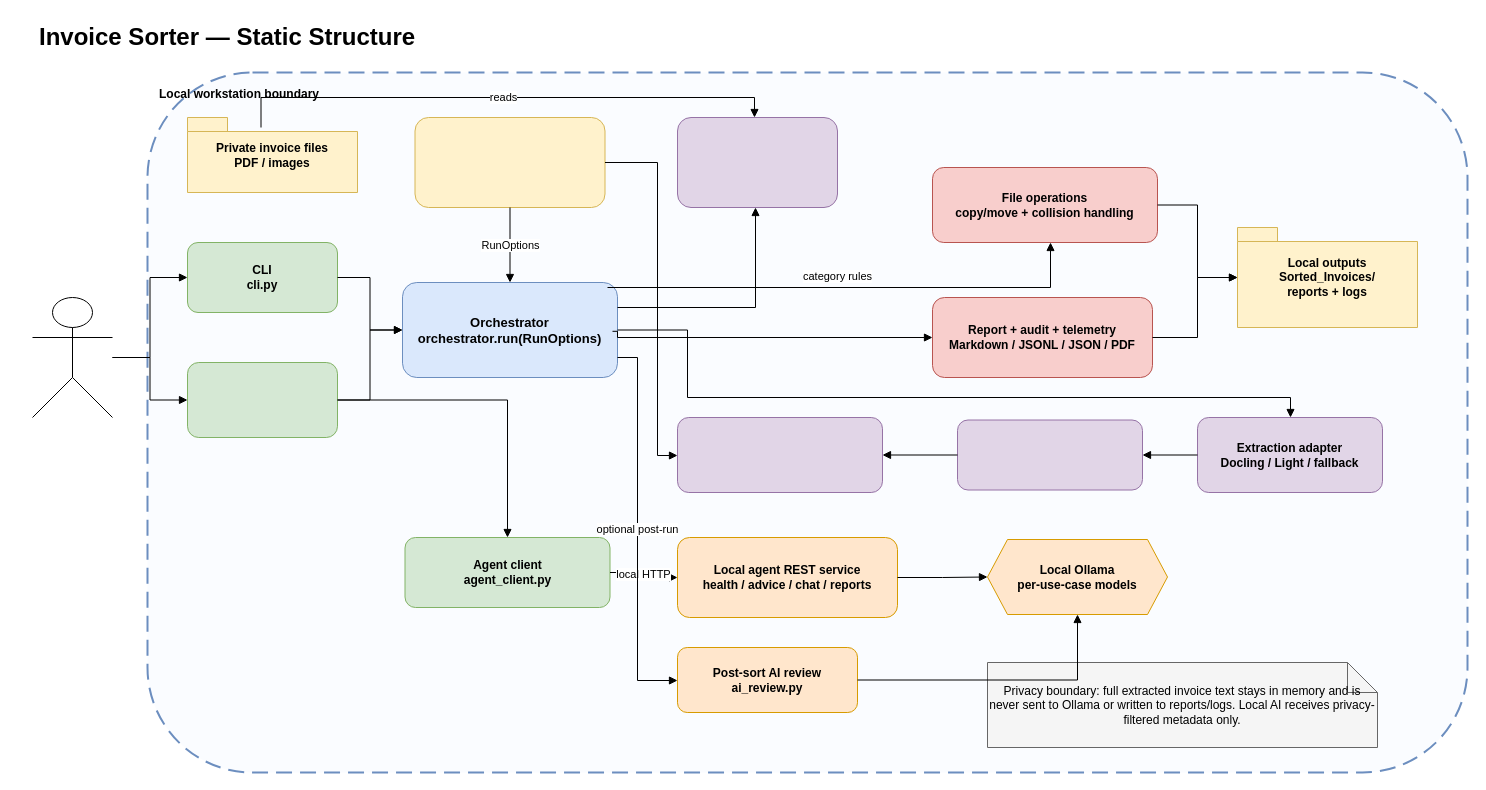
Some shapes in this 1486 by 790 pixel diagram are drawn without their labels. The centre of each missing label's shape, as x and y in pixels:
Classifier + routing rules, confidence, manual review: [779,454]
Configuration categories.yaml AI prompt + env overrides: [509,162]
Desktop GUI gui.py / Worker: [262,400]
Metadata extraction DE/EN fields: [1049,454]
Scanner scanner.py: [757,162]
User / Tax preparer: [72,357]
